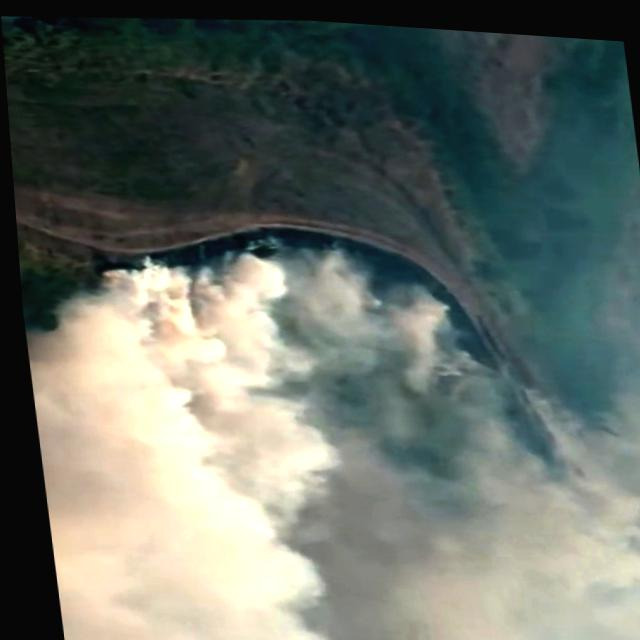smoke: (237, 390, 640, 640), (29, 409, 357, 640), (15, 256, 269, 492)
